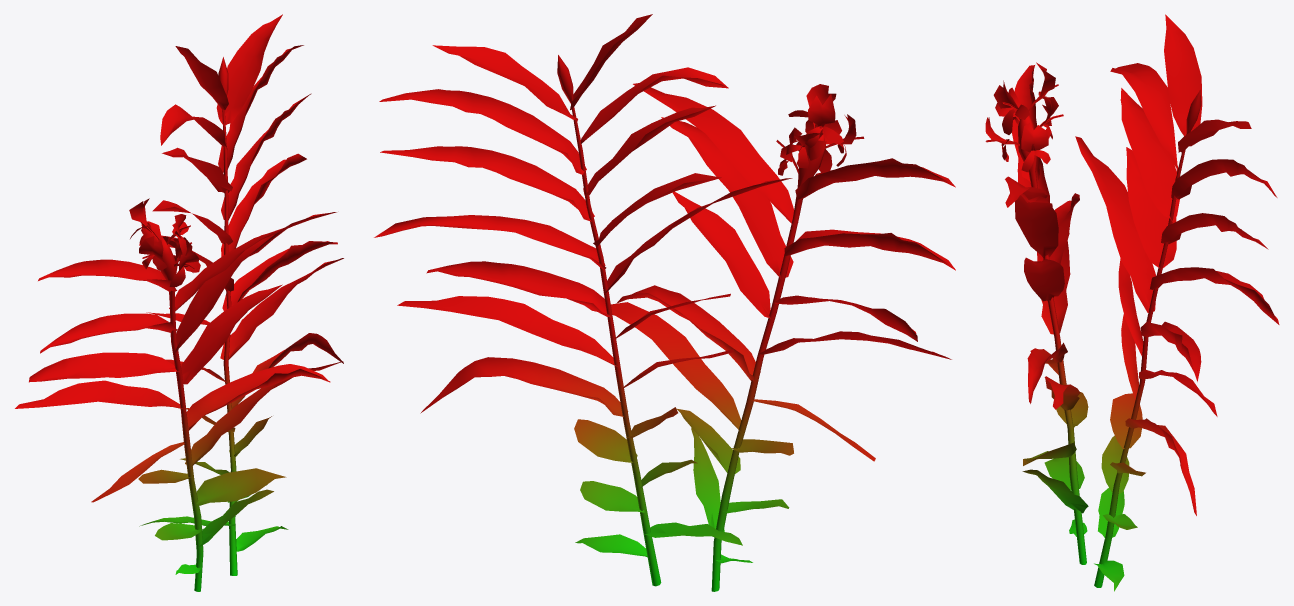
Rendered from Var5_LOD0.fbx.
3 renders of one model, left to right at view 1: azimuth 30°, elevation 25°; view 2: azimuth 150°, elevation 25°; view 3: azimuth 270°, elevation 25°, orthographic. The views are drawn at different scales.
Parts seen in each view (by area): view 1: _ed32_Var5_LOD0; view 2: _ed32_Var5_LOD0; view 3: _ed32_Var5_LOD0.
Part boxes in pixels (x1=…): _ed32_Var5_LOD0: x1=15, y1=14, x2=343, y2=591; _ed32_Var5_LOD0: x1=374, y1=14, x2=955, y2=591; _ed32_Var5_LOD0: x1=985, y1=14, x2=1279, y2=591.
Size of the model in its own units: 92.67 by 113 by 54.16.
